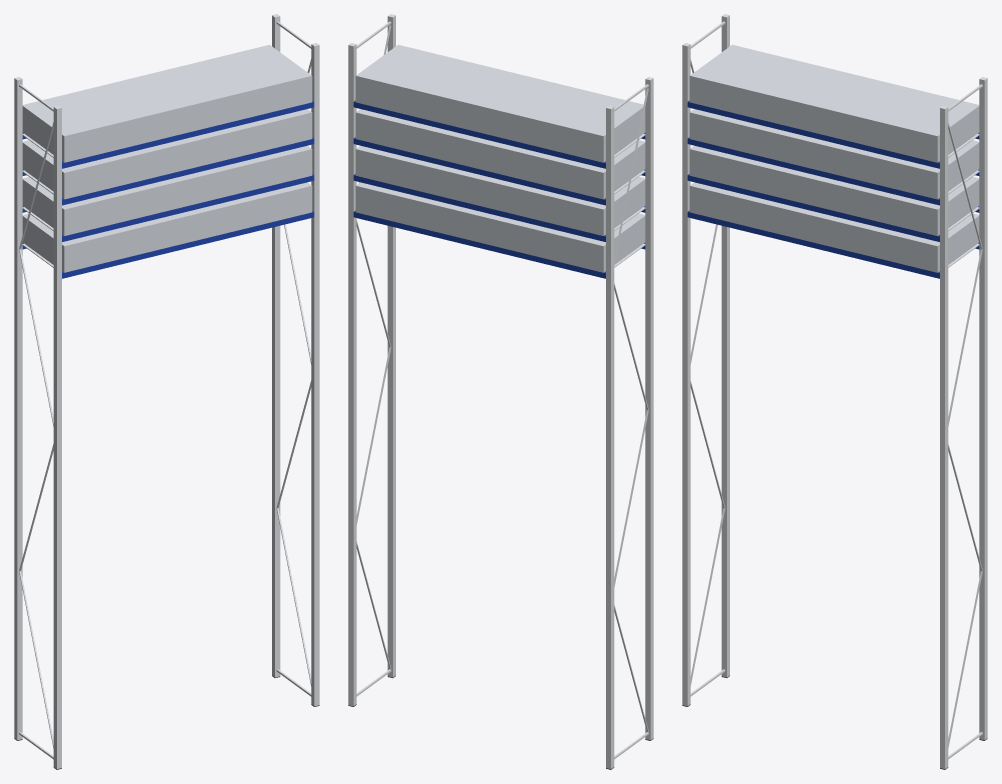
The model's file is SM_MPR_CADRack_F16_W144_Passage_LOD2.fbx.
3 renders of one model, left to right at view 1: azimuth 30°, elevation 25°; view 2: azimuth 150°, elevation 25°; view 3: azimuth 330°, elevation 25°, orthographic.
Parts seen in each view (by area): view 1: SM_MPR_CADRack_F16_W144_Passage_LOD2; view 2: SM_MPR_CADRack_F16_W144_Passage_LOD2; view 3: SM_MPR_CADRack_F16_W144_Passage_LOD2.
Boxes of the visible parts, <box> form: SM_MPR_CADRack_F16_W144_Passage_LOD2: <box>14,14,319,769</box>; SM_MPR_CADRack_F16_W144_Passage_LOD2: <box>348,14,653,769</box>; SM_MPR_CADRack_F16_W144_Passage_LOD2: <box>682,14,987,769</box>.
Bounding box in the file's own units: 381 × 107 × 915.
